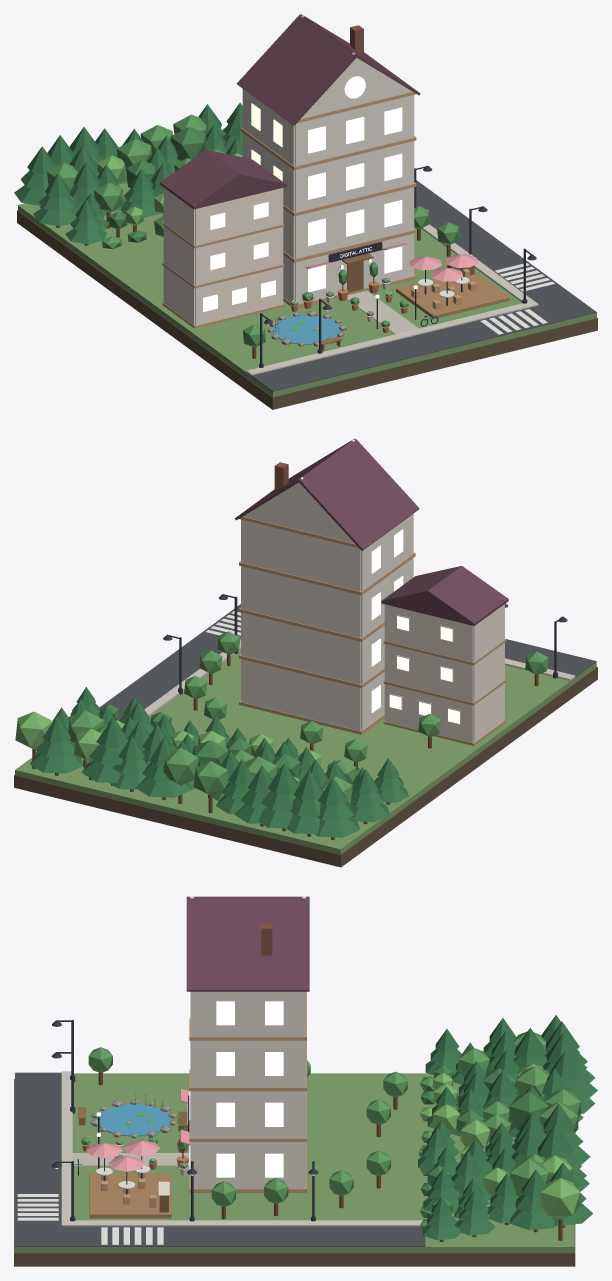
File: office.glb
3 views of the same model, one above another, from view 1: azimuth 30°, elevation 25°; view 2: azimuth 150°, elevation 25°; view 3: azimuth 270°, elevation 25° (orthographic). The views are drawn at different scales.
Parts seen in each view (by area): view 1: island_ground, island_rim, attic_roof_left, island_road_south, island_road_east, dorm_roof, house_front_f3, house_front_f4, house_front_f2, dorm_front_f2, dorm_front_f3, dorm_front_f1 (+24 smaller); view 2: island_ground, attic_roof_left, island_forest_ground, island_forest_rim, house_wall_back_f1, house_wall_back_f3, house_wall_back_f2, house_wall_back_f4, dorm_roof, island_road_east, dorm_wall_back_f2, dorm_wall_back_f3 (+30 smaller); view 3: island_ground, attic_roof_right, island_road_east, island_road_south, island_rim, house_wall_right_f2, house_wall_right_f3, house_wall_right_f4, house_wall_right_f1, island_forest_ground, deck_floor, island_sidewalk_east (+28 smaller).
Part boxes in pixels (x1,y1,x2,y2): island_ground: [86, 228, 596, 396]; island_rim: [84, 260, 597, 409]; attic_roof_left: [236, 14, 356, 125]; island_road_south: [252, 305, 593, 391]; island_road_east: [416, 180, 596, 320]; dorm_roof: [160, 149, 286, 206]; house_front_f3: [295, 141, 413, 212]; house_front_f4: [295, 95, 413, 166]; house_front_f2: [295, 187, 413, 258]; dorm_front_f2: [195, 227, 282, 285]; dorm_front_f3: [195, 188, 282, 245]; dorm_front_f1: [195, 267, 282, 325]; island_ground: [149, 649, 596, 804]; attic_roof_left: [298, 439, 419, 550]; island_forest_ground: [15, 754, 408, 854]; island_forest_rim: [14, 775, 409, 867]; house_wall_back_f1: [241, 659, 360, 730]; house_wall_back_f3: [241, 566, 360, 637]; house_wall_back_f2: [241, 613, 360, 684]; house_wall_back_f4: [241, 520, 360, 591]; dorm_roof: [381, 566, 508, 623]; island_road_east: [99, 604, 240, 720]; dorm_wall_back_f2: [385, 644, 473, 702]; dorm_wall_back_f3: [385, 604, 473, 662]; island_ground: [15, 1073, 425, 1252]; attic_roof_right: [186, 897, 309, 991]; island_road_east: [15, 1226, 425, 1246]; island_road_south: [15, 1072, 61, 1226]; island_rim: [14, 1079, 425, 1266]; house_wall_right_f2: [192, 1091, 303, 1138]; house_wall_right_f3: [192, 1040, 303, 1087]; house_wall_right_f4: [192, 991, 303, 1036]; house_wall_right_f1: [192, 1142, 303, 1188]; island_forest_ground: [425, 1073, 574, 1252]; deck_floor: [89, 1173, 171, 1218]; island_sidewalk_east: [61, 1220, 422, 1226].
Size of the model in its own units: 23.33 by 16.75 by 31.3.
